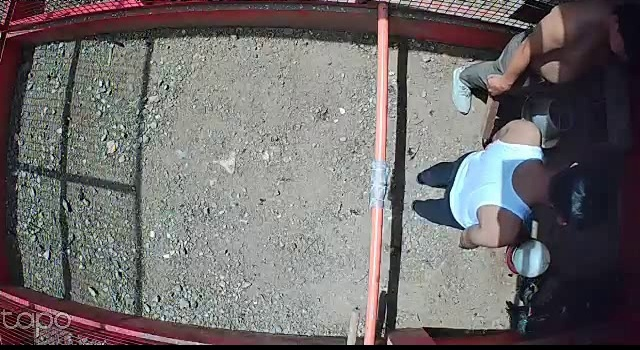Drinker: (505, 237, 553, 281)
Feeder: (521, 91, 574, 152)
